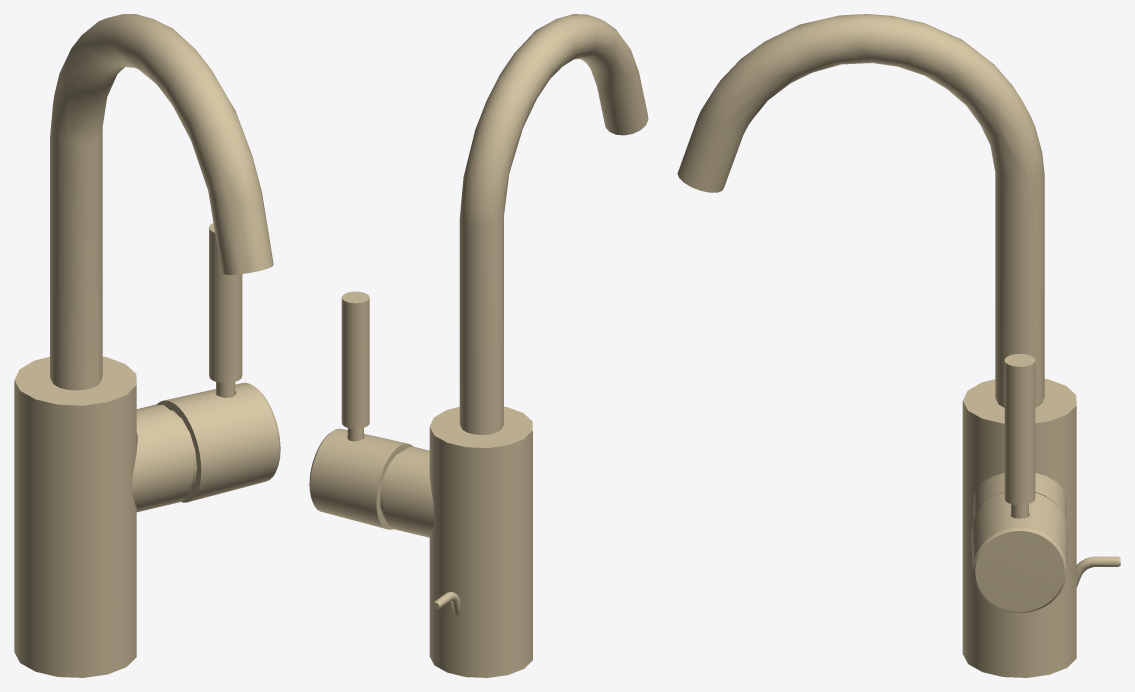
3 views of the same model, side by side, from view 1: azimuth 30°, elevation 25°; view 2: azimuth 150°, elevation 25°; view 3: azimuth 270°, elevation 25° (orthographic). The views are drawn at different scales.
Parts seen in each view (by area): view 1: L_38217946_f09a_4111_94d7_bbbd073e556f_I3, L_3cedbff9_3405_4d53_b327_2d82b7d94967_I5, L_5b142c80_0d3e_4e9a_93af_ee4d73e51776_I6, L_0b14ad02_9adf_4bf2_b05e_350ed343c39d_I1, L_eed74e25_46e6_4254_ab5a_c9352bf72fbd_I8; view 2: L_38217946_f09a_4111_94d7_bbbd073e556f_I3, L_3cedbff9_3405_4d53_b327_2d82b7d94967_I5, L_5b142c80_0d3e_4e9a_93af_ee4d73e51776_I6, L_eed74e25_46e6_4254_ab5a_c9352bf72fbd_I8, L_0b14ad02_9adf_4bf2_b05e_350ed343c39d_I1; view 3: L_3cedbff9_3405_4d53_b327_2d82b7d94967_I5, L_38217946_f09a_4111_94d7_bbbd073e556f_I3, L_5b142c80_0d3e_4e9a_93af_ee4d73e51776_I6, L_eed74e25_46e6_4254_ab5a_c9352bf72fbd_I8, L_0b14ad02_9adf_4bf2_b05e_350ed343c39d_I1.
Boxes of the visible parts, <box> form: L_38217946_f09a_4111_94d7_bbbd073e556f_I3: <box>14,356,136,677</box>; L_3cedbff9_3405_4d53_b327_2d82b7d94967_I5: <box>50,14,273,387</box>; L_5b142c80_0d3e_4e9a_93af_ee4d73e51776_I6: <box>157,382,280,502</box>; L_0b14ad02_9adf_4bf2_b05e_350ed343c39d_I1: <box>132,404,192,512</box>; L_eed74e25_46e6_4254_ab5a_c9352bf72fbd_I8: <box>209,223,242,397</box>; L_38217946_f09a_4111_94d7_bbbd073e556f_I3: <box>429,406,532,677</box>; L_3cedbff9_3405_4d53_b327_2d82b7d94967_I5: <box>459,14,648,432</box>; L_5b142c80_0d3e_4e9a_93af_ee4d73e51776_I6: <box>309,428,413,529</box>; L_eed74e25_46e6_4254_ab5a_c9352bf72fbd_I8: <box>341,291,369,441</box>; L_0b14ad02_9adf_4bf2_b05e_350ed343c39d_I1: <box>383,447,434,537</box>; L_3cedbff9_3405_4d53_b327_2d82b7d94967_I5: <box>677,14,1044,405</box>; L_38217946_f09a_4111_94d7_bbbd073e556f_I3: <box>962,379,1076,677</box>; L_5b142c80_0d3e_4e9a_93af_ee4d73e51776_I6: <box>971,492,1068,613</box>; L_eed74e25_46e6_4254_ab5a_c9352bf72fbd_I8: <box>1004,354,1035,518</box>; L_0b14ad02_9adf_4bf2_b05e_350ed343c39d_I1: <box>973,473,1066,521</box>.
Size of the model in its own units: 0.0971 by 0.2718 by 0.1711.
